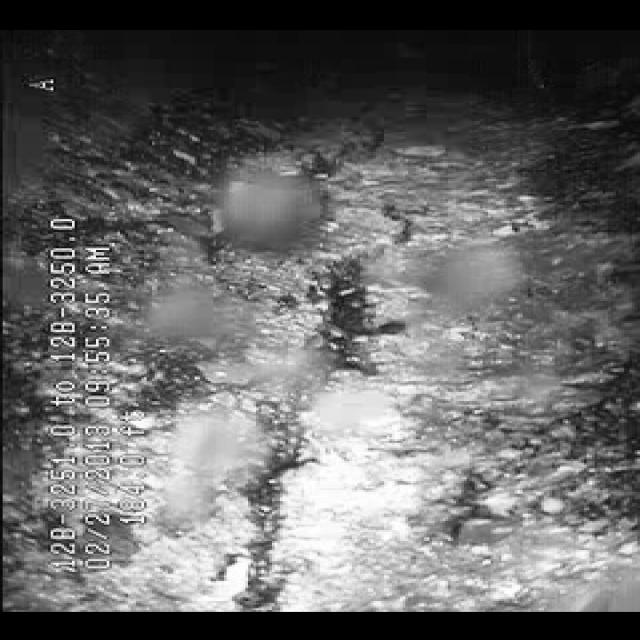Crack: (184, 192, 455, 594)
